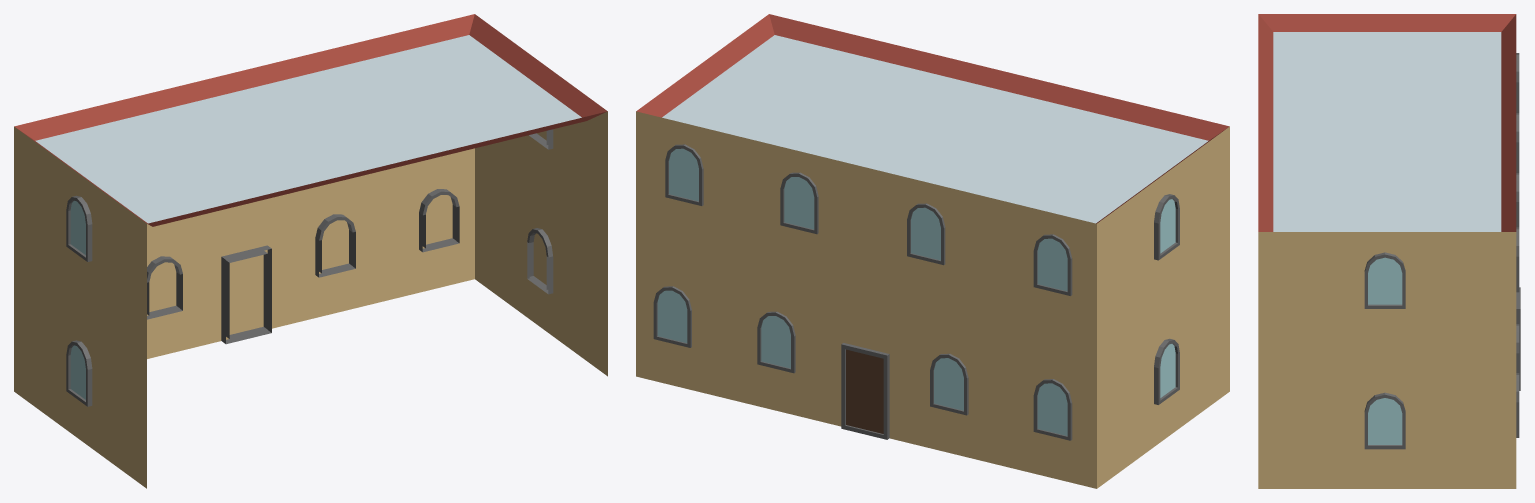
File: House3.fbx
The picture shows the model from 3 angles, left to right: view 1: azimuth 30°, elevation 25°; view 2: azimuth 150°, elevation 25°; view 3: azimuth 270°, elevation 25°; orthographic projection. The views are drawn at different scales.
Visible parts, largest first — view 1: House3; view 2: House3; view 3: House3.
Part boxes in pixels (<box>): House3: <box>14,14,607,488</box>; House3: <box>636,14,1229,488</box>; House3: <box>1258,14,1520,488</box>.
Bounding box in the file's own units: 40.8 × 20.33 × 22.
